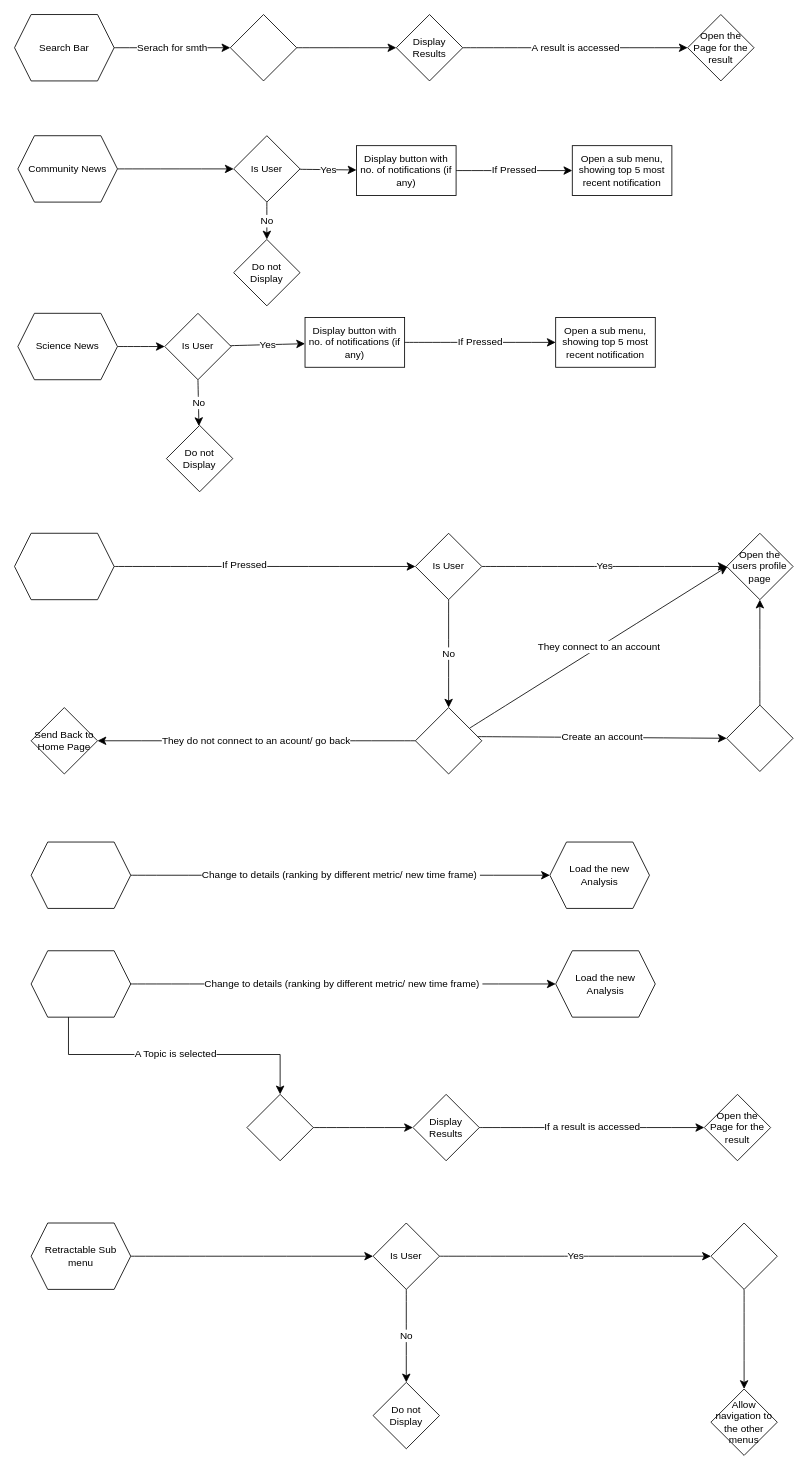
The diagram is 808 pixels wide and 1470 high, and some of its shapes have lost their labels. The centre of each missing label's shape, as x and y in pixels:
"Display" belongs at [743,1255].
"Domain Analysis" belongs at [80,874].
"Go to Search Page" belongs at [263,47].
"Go to Search Page with the results for the topic" belongs at [279,1127].
"Open the Log_in/ Sign_up Page" belongs at [448,740].
"Profile" belongs at [64,566].
"Prompt the FTUE" belongs at [759,737].
"Topics Analysis" belongs at [80,983].
